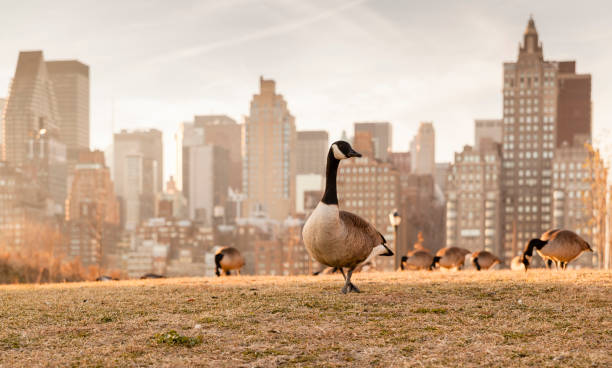goose: (299, 138, 388, 294), (519, 227, 595, 274), (211, 245, 246, 279), (431, 245, 470, 271), (399, 249, 434, 271), (470, 250, 503, 271)
